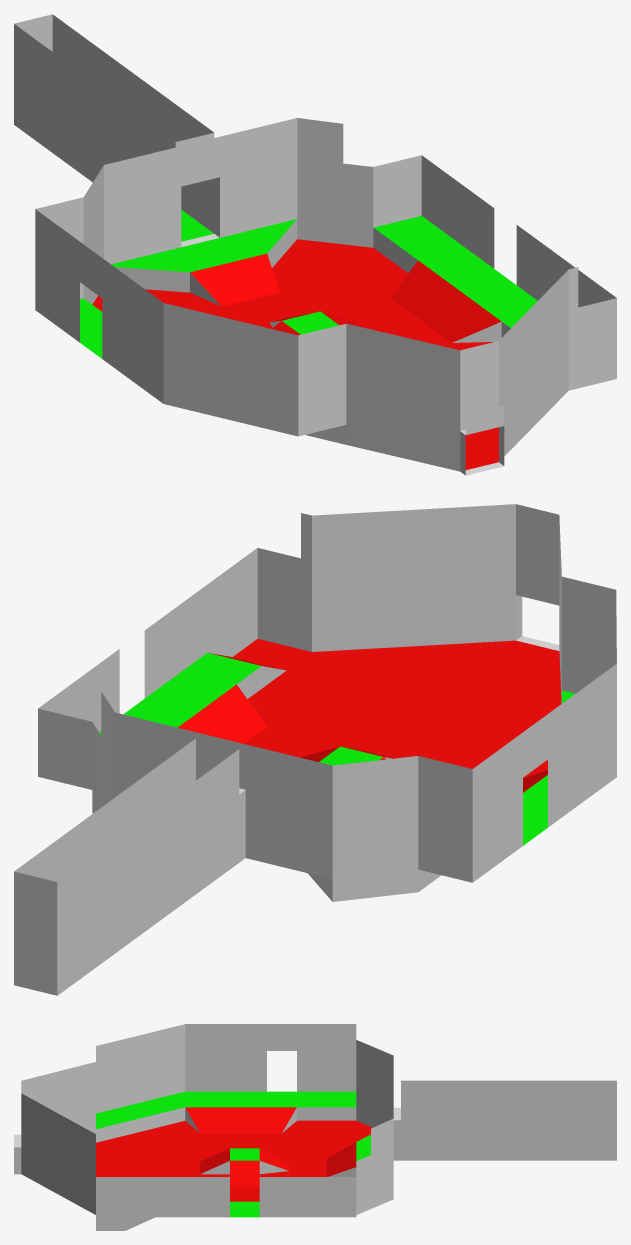
Rendered from Sala1.glb.
3 views of the same model, one above another, from view 1: azimuth 30°, elevation 25°; view 2: azimuth 150°, elevation 25°; view 3: azimuth 270°, elevation 25° (orthographic). The views are drawn at different scales.
Parts seen in each view (by area): view 1: Sala1; view 2: Sala1; view 3: Sala1.
Boxes of the visible parts, x1,y1,x2,y2 form: Sala1: (14,14,616,475); Sala1: (14,504,616,995); Sala1: (14,1024,616,1230).
Size of the model in its own units: 40 by 12 by 81.
